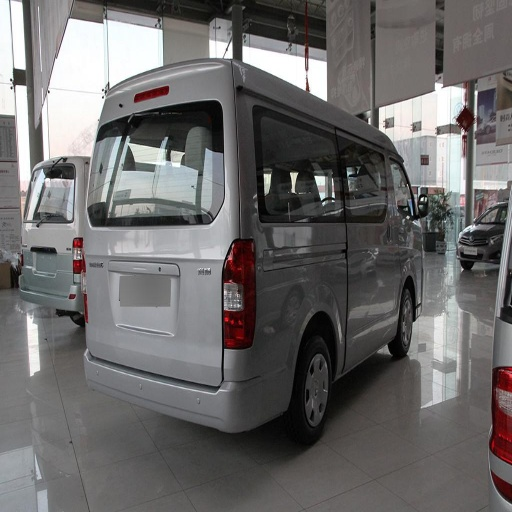back_bumper: (69, 327, 292, 459), (35, 404, 79, 487)
trunk: (89, 206, 416, 384)
